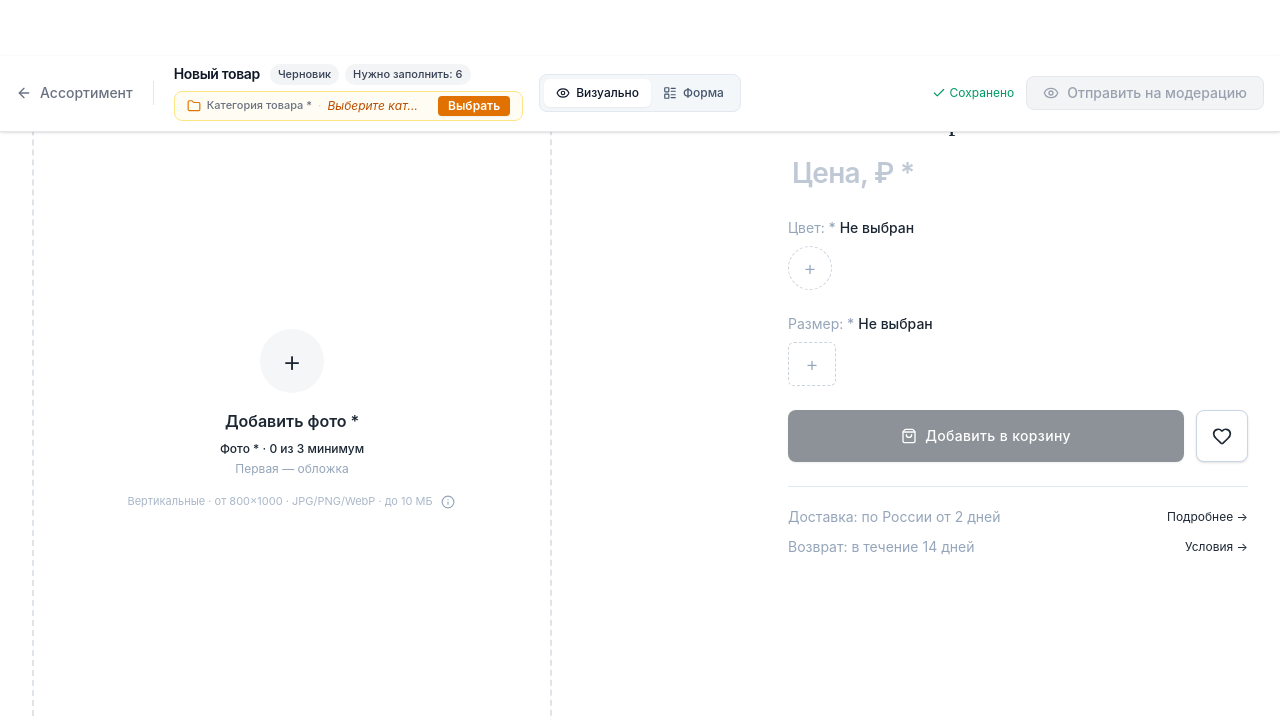
Test case: SHOP PS.R1 — Product Studio Internal Foundation › 4. Form uses horizontal sections: Основное, Медиа, Характеристики, Варианты, Цена, Проверка
Click the tab with test id "studio-view-toggle-form" at (693, 93), box [651,79,736,107]
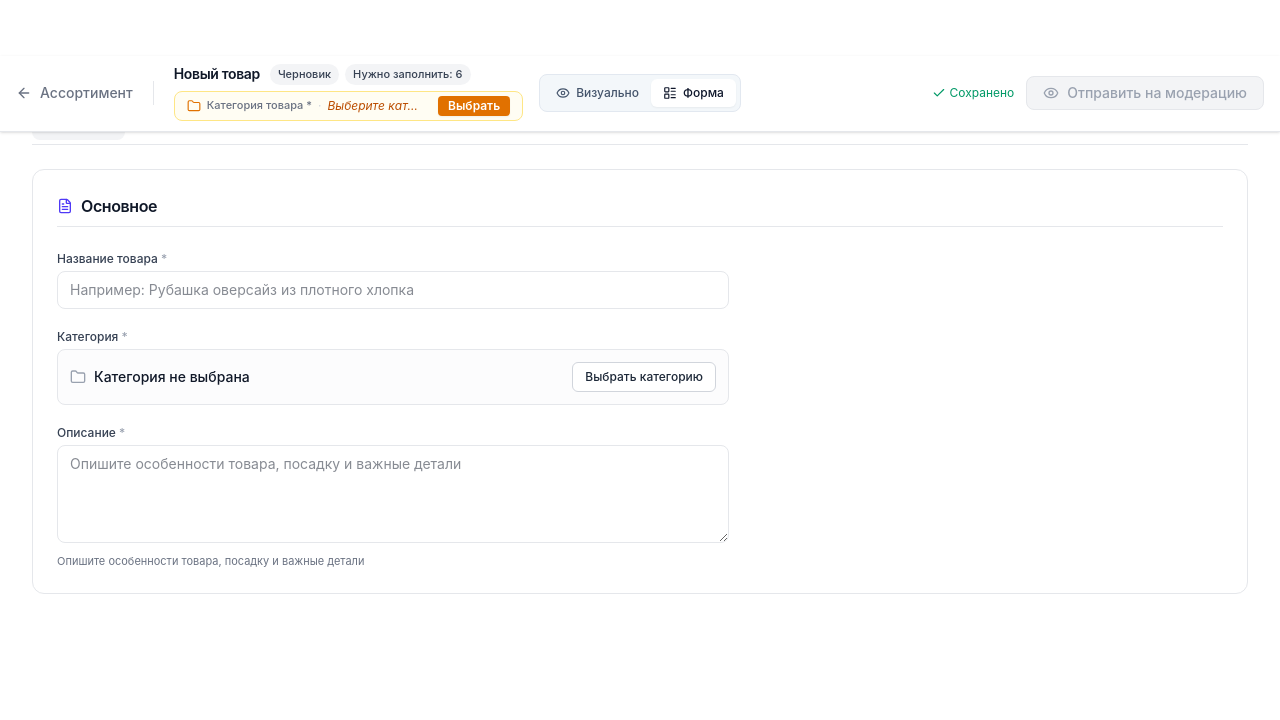
Expected: the tab with test id "studio-section-btn-basics" reads "Основное", [32,104,125,140]
Now the navigation bar with test id "product-studio-section-nav" is shown, box [32,100,1248,144]
